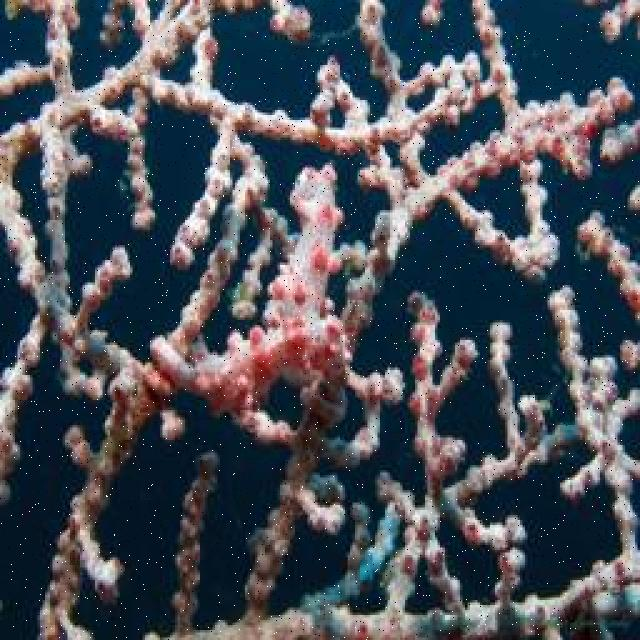reefs: (0, 0, 633, 638), (163, 284, 638, 638), (148, 159, 368, 417), (340, 145, 430, 402), (439, 156, 560, 281), (580, 211, 638, 315)
